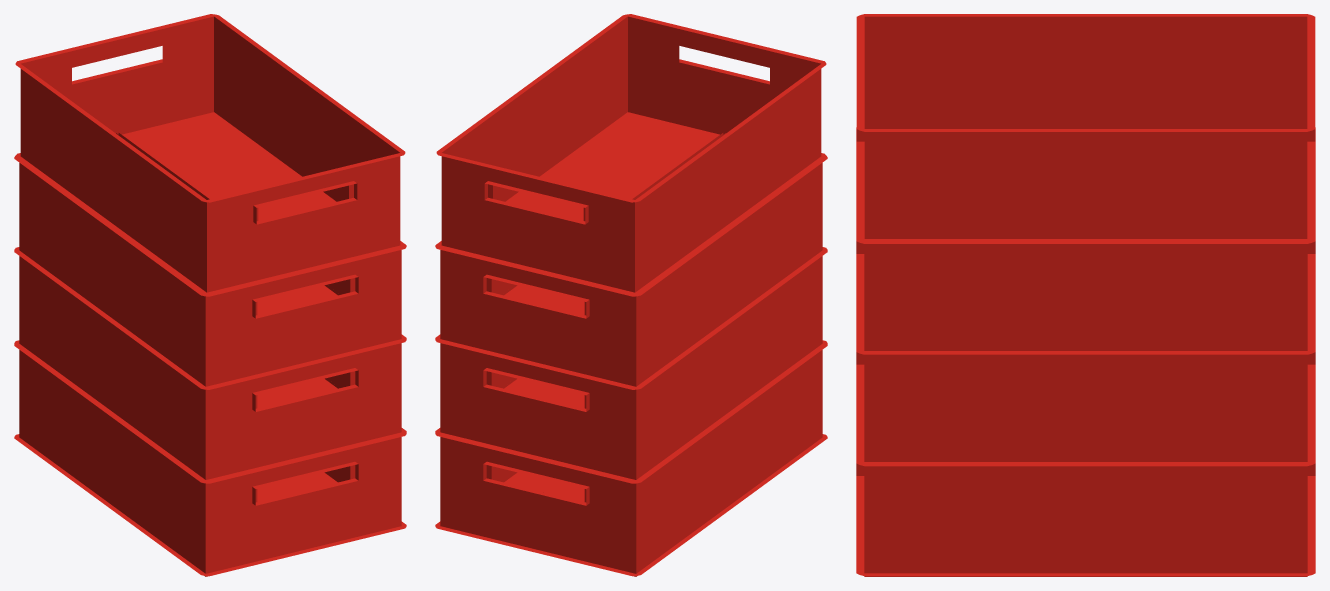
The model's file is bakken.fbx.
3 views of the same model, side by side, from view 1: azimuth 30°, elevation 25°; view 2: azimuth 150°, elevation 25°; view 3: azimuth 270°, elevation 25° (orthographic). The views are drawn at different scales.
Parts seen in each view (by area): view 1: Cube.002, Cube.003, Cube, Cube.001; view 2: Cube.002, Cube.003, Cube, Cube.001; view 3: Cube.002, Cube, Cube.003, Cube.001.
Boxes of the visible parts, x1,y1,x2,y2 form: Cube.002: [15, 14, 405, 294]; Cube.003: [14, 155, 406, 389]; Cube: [14, 345, 406, 576]; Cube.001: [14, 251, 406, 482]; Cube.002: [436, 14, 826, 294]; Cube.003: [435, 155, 827, 389]; Cube: [435, 345, 827, 576]; Cube.001: [435, 251, 827, 482]; Cube.002: [856, 14, 1315, 241]; Cube: [856, 462, 1315, 576]; Cube.003: [856, 127, 1315, 353]; Cube.001: [856, 351, 1315, 464].
Size of the model in its own units: 324 by 566 by 527.
